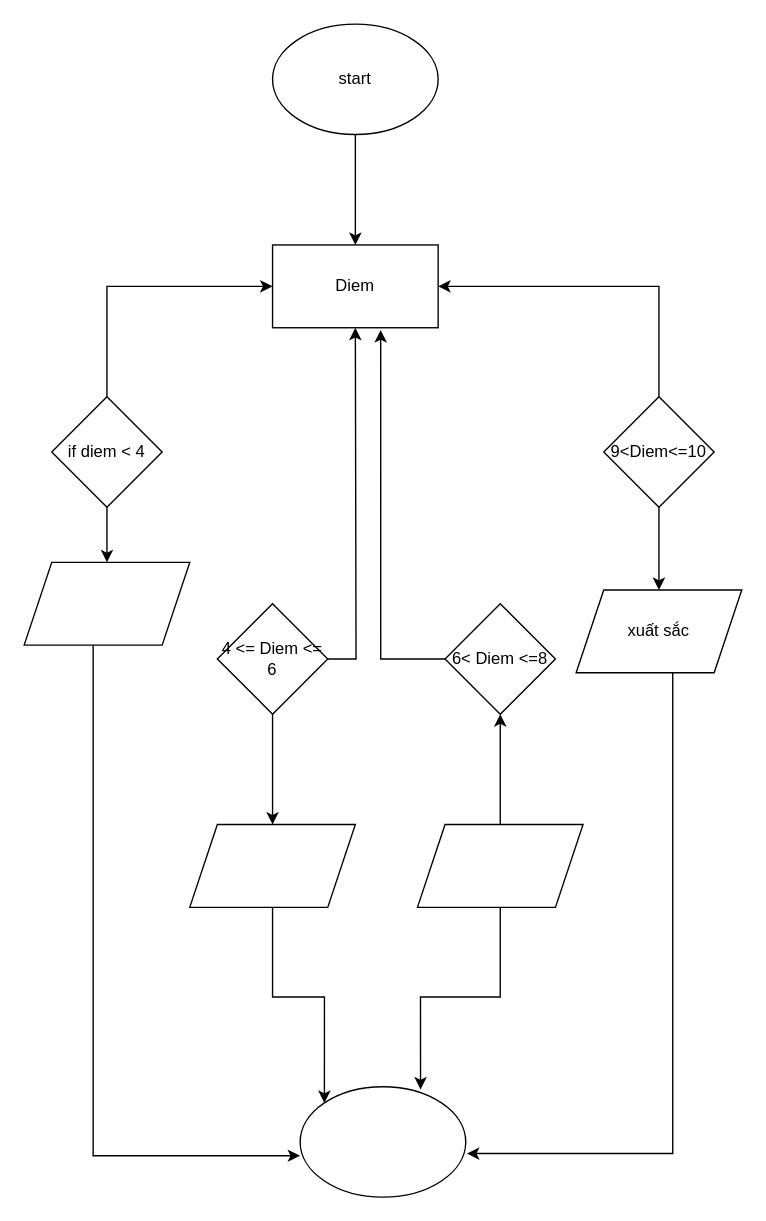
This 766x1221 diagram has some shape labels left out. Here are the shapes that lost their labels. From the top down, the centre of each, then its label:
the point at 106,603: không đạt
the point at 271,865: trung bình
the point at 499,865: khá
the point at 382,1141: end
